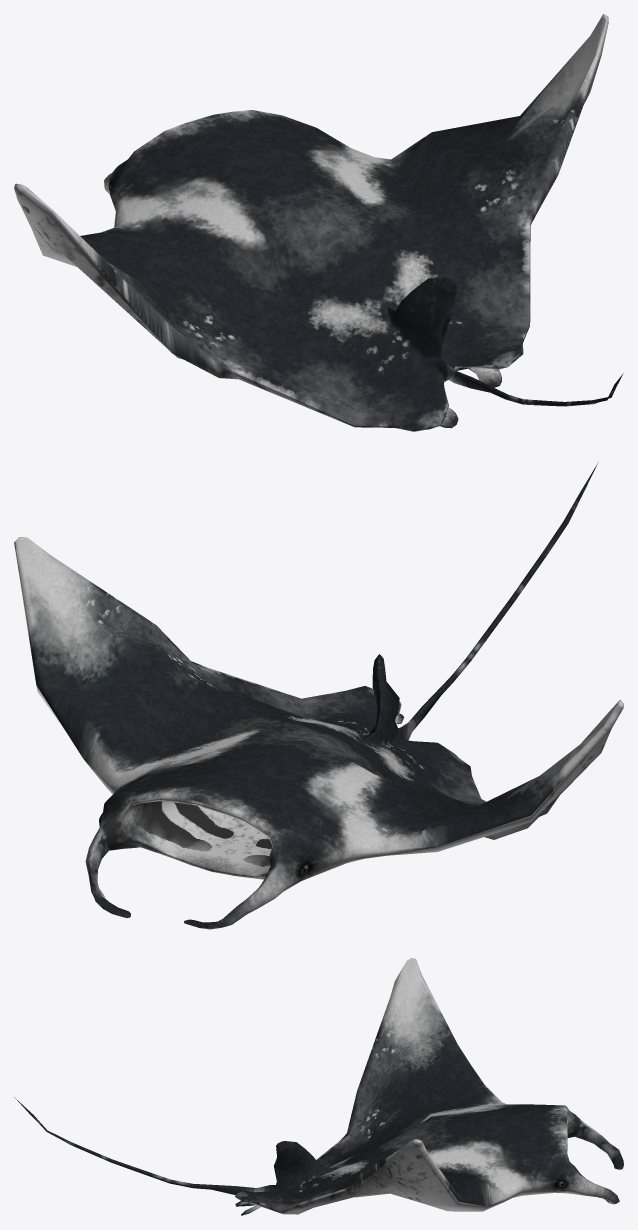
The model's file is manta1_edit_for_FBX.fbx.
3 renders of one model, top to bottom at view 1: azimuth 30°, elevation 25°; view 2: azimuth 150°, elevation 25°; view 3: azimuth 270°, elevation 25°, orthographic. The views are drawn at different scales.
Visible parts, largest first — view 1: manta1; view 2: manta1; view 3: manta1.
Part boxes in pixels (x1,y1,x2,y2): manta1: [14, 14, 623, 431]; manta1: [14, 462, 623, 929]; manta1: [14, 958, 623, 1215].
Bounding box in the file's own units: 725 × 293 × 940.
